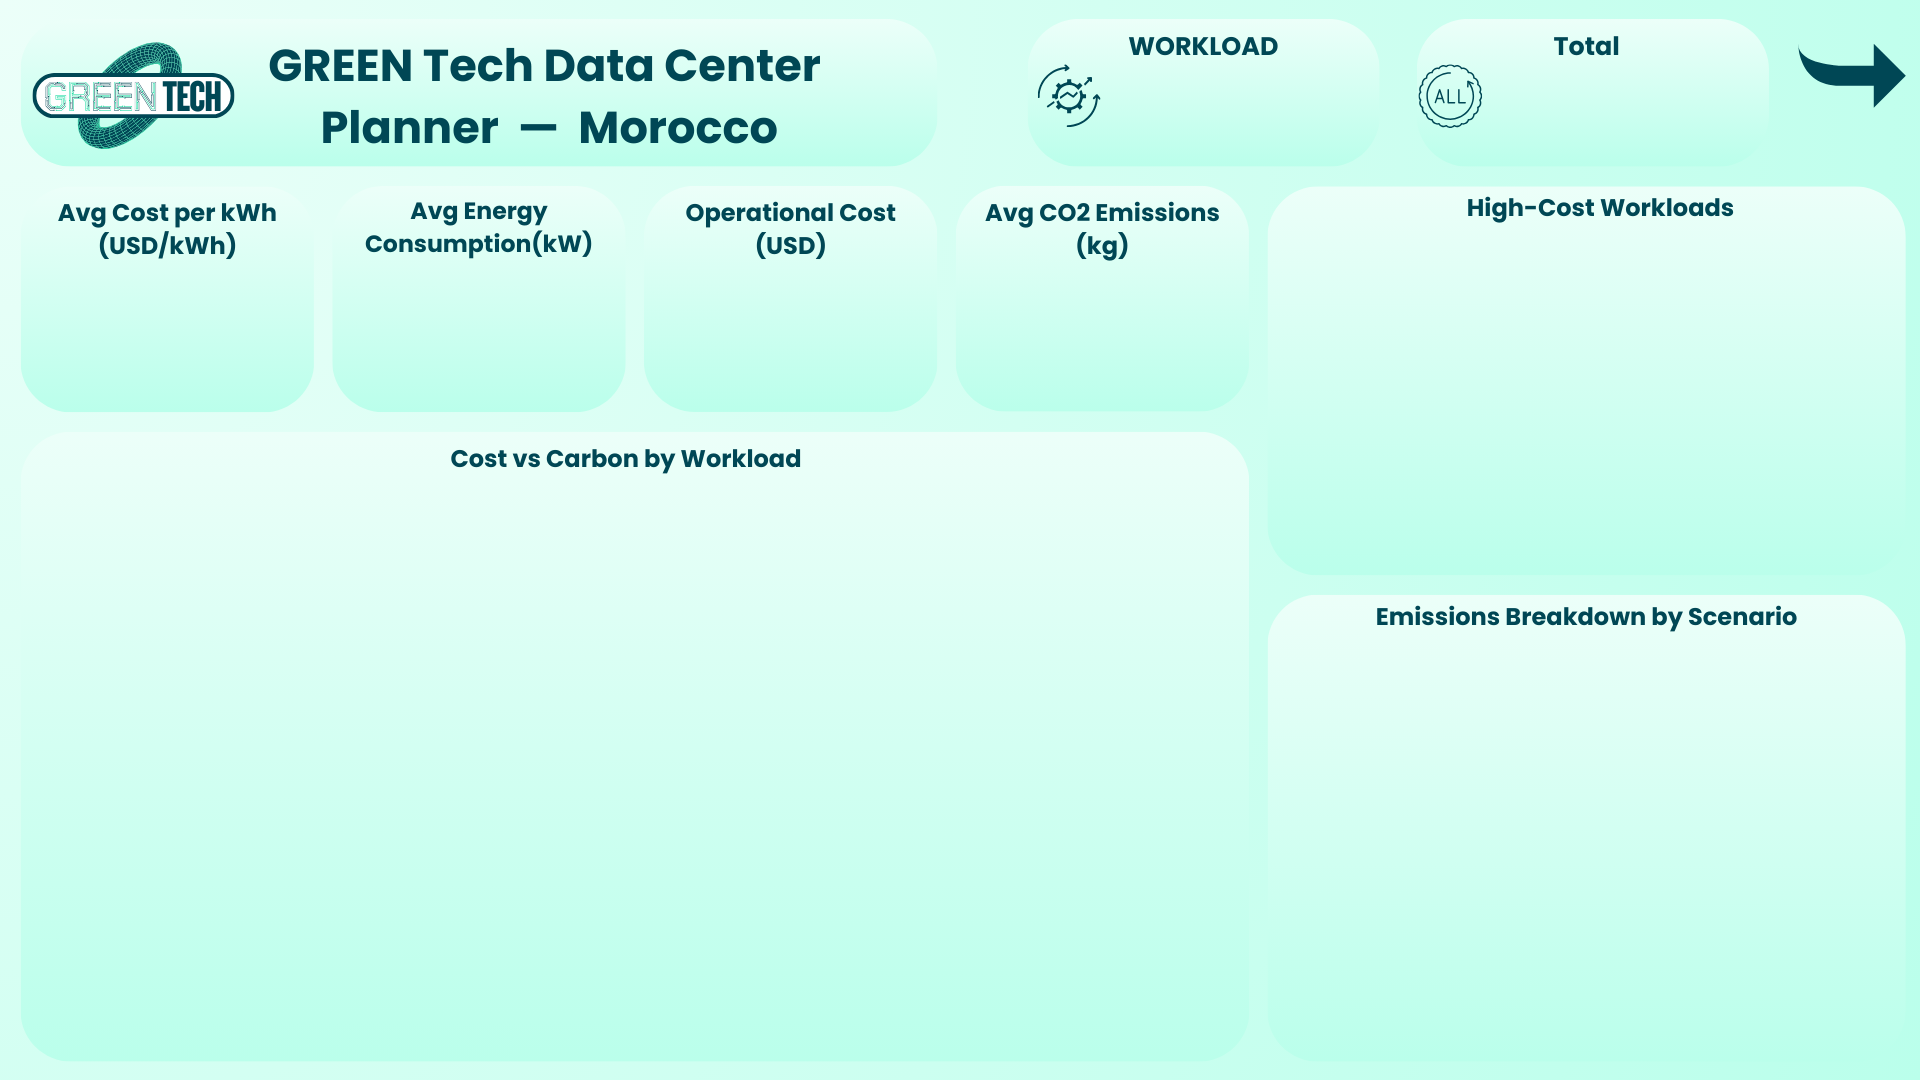

What the dashboard file says about the page in this screenshot:
{"tool":"powerbi","page":{"name":"Page 3","canvas":[1280,720],"ordinal":2},"visuals":[{"type":"card","title":"Coût Moyen / kWh","fields":{"Values":["Avg(FACT_GREEN_WORKLOAD.COST_PER_KWH)"]},"box":[337.9,3.4,279.9,127.7],"z":0},{"type":"card","title":"Consommation Moyenne","fields":{"Values":["Avg(FACT_GREEN_WORKLOAD.ENERGY_CONSUMPTION_KWH)"]},"box":[551.7,3.4,300,129.2],"z":1000},{"type":"card","title":"Coût Opérationnel","fields":{"Values":["Avg(FACT_GREEN_WORKLOAD.OPERATIONAL_COST_USD)"]},"box":[772.2,2.9,258.4,129.2],"z":2000},{"type":"card","title":"Emissions Moyenne","fields":{"Values":["Avg(FACT_GREEN_WORKLOAD.CARBON_EMISSIONS_KGCO2)"]},"box":[980.3,2.9,300,104.8],"z":3000},{"type":"clusteredBarChart","title":"Coût Opérationnel par WORKLOAD_TYPE","fields":{"Category":["DIM_WORKLOAD.WORKLOAD_TYPE"],"Y":["Avg(FACT_GREEN_WORKLOAD.OPERATIONAL_COST_USD)"]},"box":[782.5,107.5,497.5,257.5],"z":4000},{"type":"clusteredColumnChart","title":" Coût par Energy Source","fields":{"Category":["DIM_ENERGY.ENERGY_SOURCE"],"Y":["Avg(FACT_GREEN_WORKLOAD.OPERATIONAL_COST_USD)"],"Series":["DIM_ENERGY.ENERGY_SOURCE"]},"box":[881.4,402.6,399,317.4],"z":5000},{"type":"slicer","fields":{"Values":["DIM_WORKLOAD.WORKLOAD_TYPE"]},"box":[173.7,0,163.6,64.6],"z":6000},{"type":"donutChart","fields":{"Category":["DIM_ENERGY.ENERGY_SOURCE"],"Y":["Sum(FACT_GREEN_WORKLOAD.ENERGY_CONSUMPTION_KWH)"]},"box":[19.9,103.4,359.1,210.4],"z":7000},{"type":"scatterChart","fields":{"X":["Avg(FACT_GREEN_WORKLOAD.OPERATIONAL_COST_USD)"],"Y":["Avg(FACT_GREEN_WORKLOAD.CARBON_EMISSIONS_KGCO2)"],"Category":["DIM_WORKLOAD.WORKLOAD_TYPE"],"Series":["DIM_ENERGY.ENERGY_SOURCE"],"Size":["Avg(FACT_GREEN_WORKLOAD.OPERATIONAL_COST_USD)"]},"box":[0,342.8,850.6,377.2],"z":8000},{"type":"clusteredColumnChart","fields":{"Category":["DIM_SCENARIO.WORKLOAD_SCENARIO"],"Y":["Sum(FACT_GREEN_WORKLOAD.CARBON_EMISSIONS_KGCO2)"],"Series":["DIM_ENERGY.ENERGY_SOURCE"]},"box":[355.7,102.9,457.1,240],"z":8001}]}

Visuals, with their boxes in screenshot pixels (x1, y1, x2, y2), scaled from the page's 1280x720 canvas onto the 1920x1080 screenshot:
"Coût Moyen / kWh" card: bbox(507, 5, 927, 197)
"Consommation Moyenne" card: bbox(828, 5, 1278, 199)
"Coût Opérationnel" card: bbox(1158, 4, 1546, 198)
"Emissions Moyenne" card: bbox(1470, 4, 1919, 162)
"Coût Opérationnel par WORKLOAD_TYPE" clusteredBarChart: bbox(1174, 161, 1919, 548)
" Coût par Energy Source" clusteredColumnChart: bbox(1322, 604, 1919, 1079)
slicer - DIM_WORKLOAD.WORKLOAD_TYPE: bbox(261, 0, 506, 97)
donutChart - DIM_ENERGY.ENERGY_SOURCE x Sum(FACT_GREEN_WORKLOAD.ENERGY_CONSUMPTION_KWH): bbox(30, 155, 568, 471)
scatterChart - Avg(FACT_GREEN_WORKLOAD.OPERATIONAL_COST_USD) x Avg(FACT_GREEN_WORKLOAD.CARBON_EMISSIONS_KGCO2): bbox(0, 514, 1276, 1079)
clusteredColumnChart - DIM_SCENARIO.WORKLOAD_SCENARIO x Sum(FACT_GREEN_WORKLOAD.CARBON_EMISSIONS_KGCO2): bbox(534, 154, 1219, 514)
